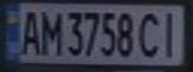3: (63, 8, 84, 56)
5: (100, 8, 121, 57)
7: (81, 8, 100, 57)
8: (115, 8, 139, 57)
A: (15, 7, 45, 56)
C: (136, 8, 166, 59)
I: (157, 8, 184, 59)
M: (36, 7, 63, 56)
